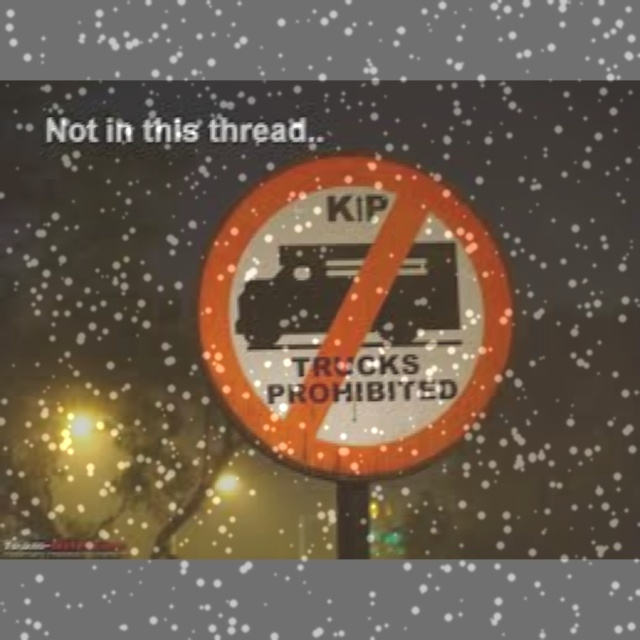Truck_Prohibited: (194, 155, 526, 482)
